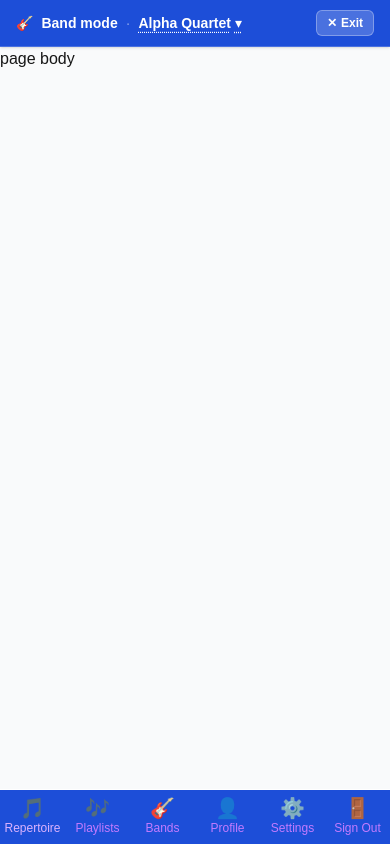
AppLayout mobile context switch (RH-181) › switches back to Personal from the band bar
Click the button with test id "mobile-context-trigger" at (190, 23), box [138,13,242,33]
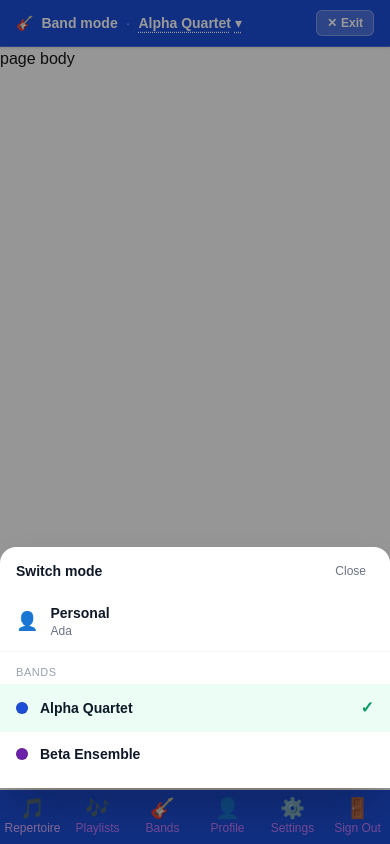
Click the button "👤 Personal Ada" at (80, 612), box [0,590,389,650]
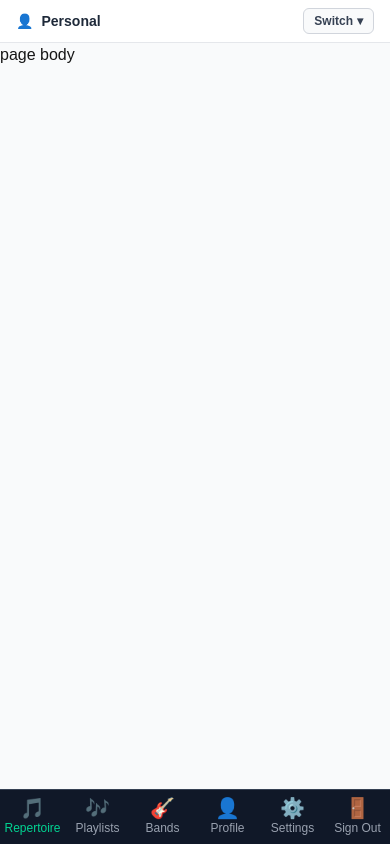
Result: the element with test id "band-indicator" is gone
Result: the element with test id "mobile-context-bar" is shown at [0,0,389,43]
